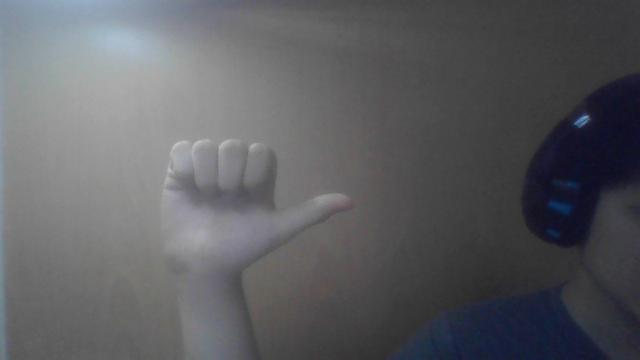left: (150, 134, 370, 290)
